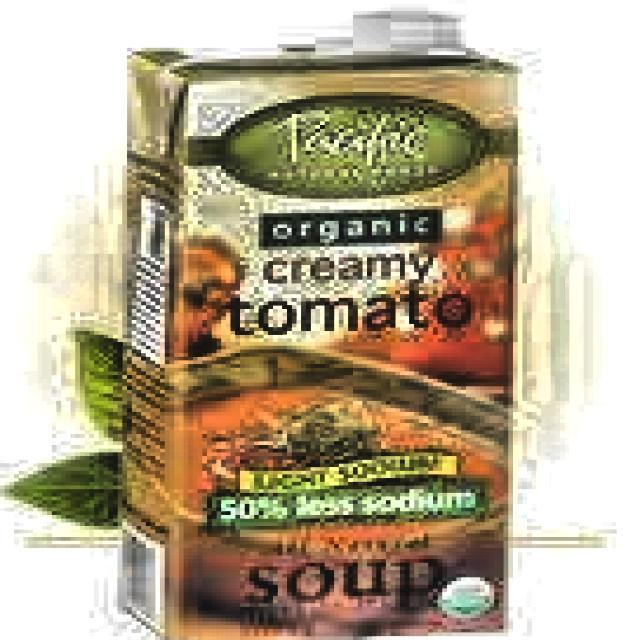cardboard: (112, 37, 522, 640)
